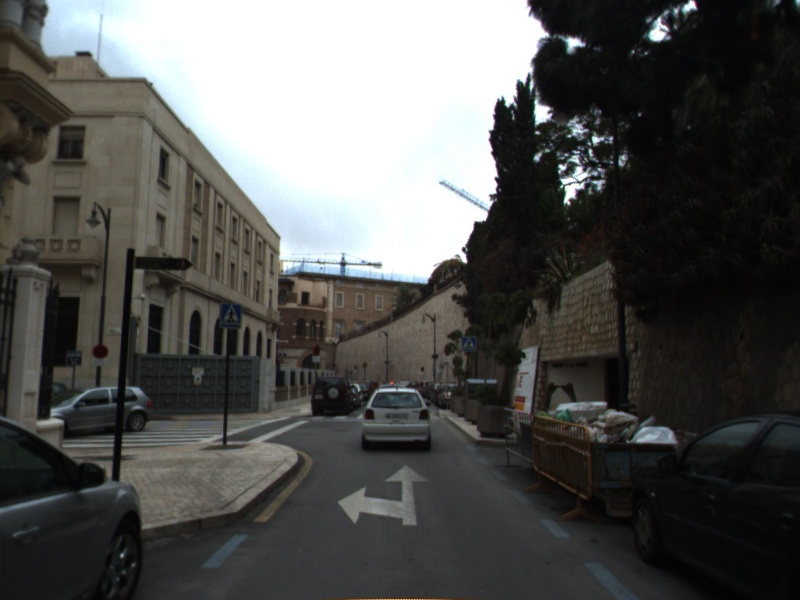STRAIGHT_LEFT: (336, 463, 431, 527)
